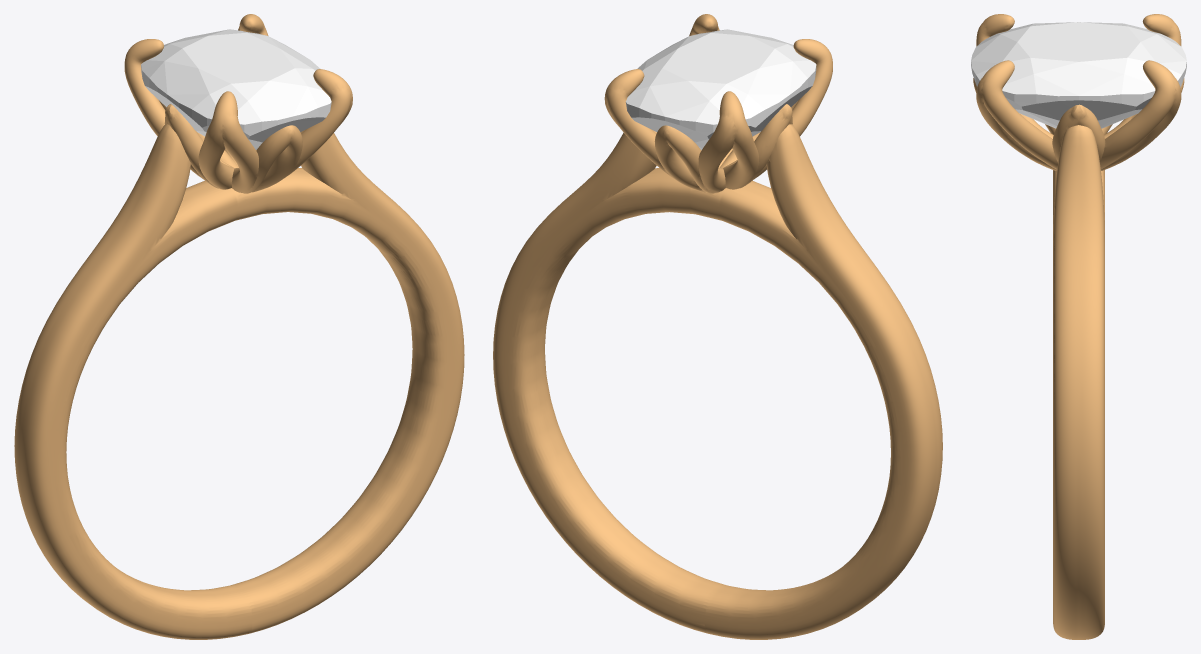
3 renders of one model, left to right at view 1: azimuth 30°, elevation 25°; view 2: azimuth 150°, elevation 25°; view 3: azimuth 270°, elevation 25°, orthographic.
Visible parts, largest first — view 1: object 1, PART0001; view 2: object 1, PART0001; view 3: object 1, PART0001.
Boxes of the visible parts, x1=… form: object 1: x1=14, y1=14, x2=464, y2=639; PART0001: x1=141, y1=29, x2=331, y2=149; object 1: x1=493, y1=14, x2=942, y2=639; PART0001: x1=625, y1=29, x2=816, y2=150; object 1: x1=973, y1=14, x2=1184, y2=639; PART0001: x1=971, y1=22, x2=1186, y2=128.
Size of the model in its own units: 2.41 by 3.03 by 1.03.
